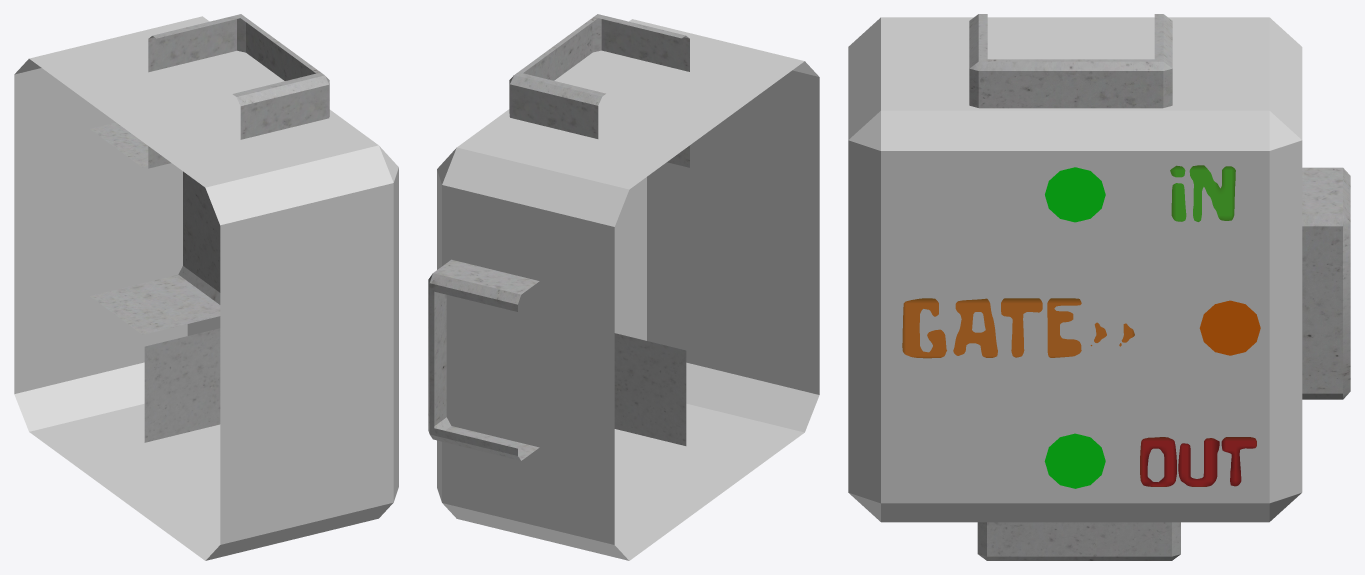
The model's file is EL_Panel_Gate_And.fbx.
The picture shows the model from 3 angles, left to right: view 1: azimuth 30°, elevation 25°; view 2: azimuth 150°, elevation 25°; view 3: azimuth 270°, elevation 25°; orthographic projection. The views are drawn at different scales.
Parts seen in each view (by area): view 1: Electrical_Panel_L-Gate.001; view 2: Electrical_Panel_L-Gate.001; view 3: Electrical_Panel_L-Gate.001.
Part boxes in pixels (x1,y1,x2,y2): Electrical_Panel_L-Gate.001: (14, 14, 398, 560); Electrical_Panel_L-Gate.001: (428, 14, 819, 560); Electrical_Panel_L-Gate.001: (848, 14, 1350, 560).
Bounding box in the file's own units: 8.2 × 18.2 × 16.6.
